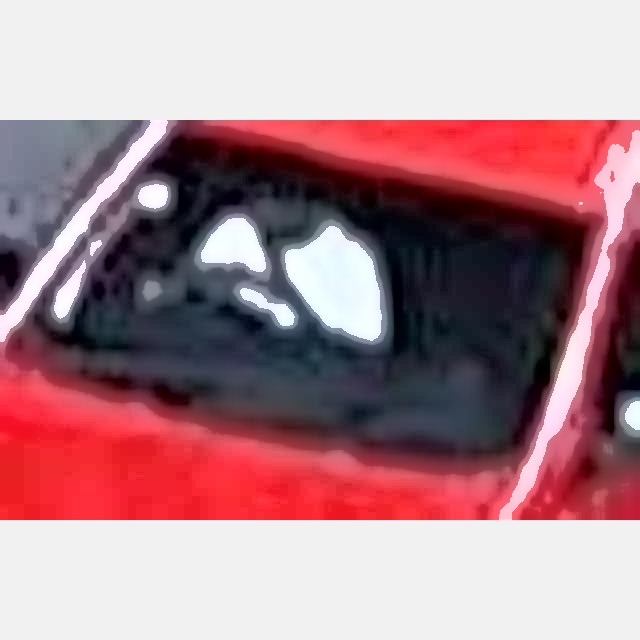pakai: (152, 176, 400, 360)
